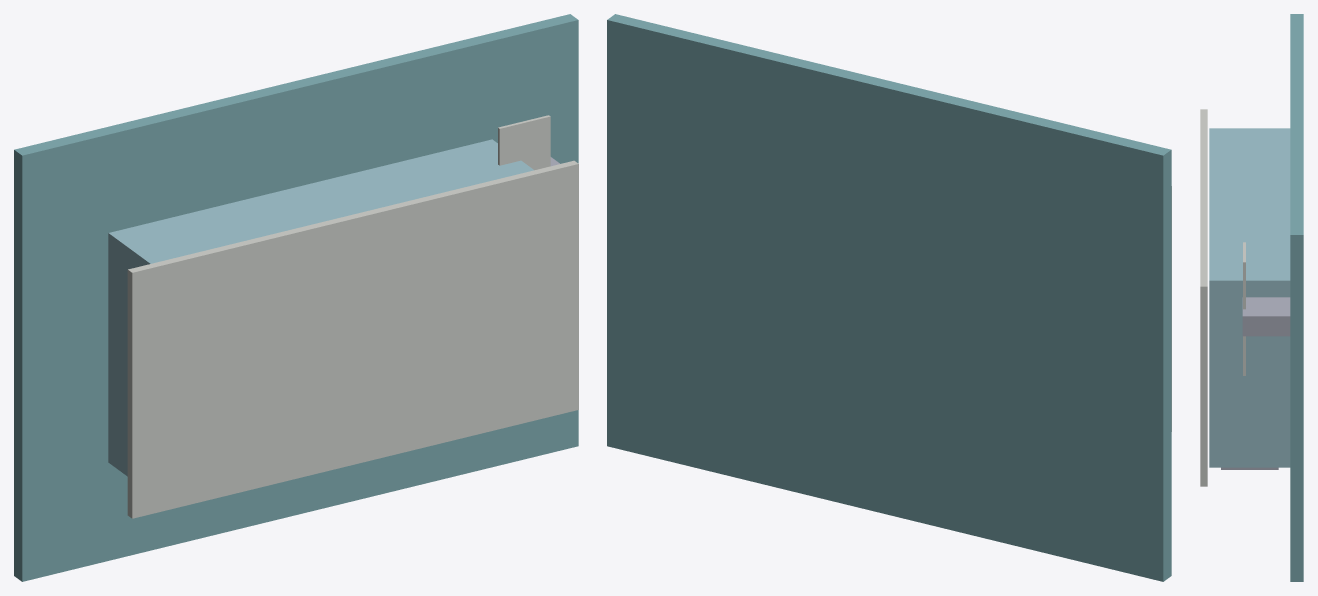
3 views of the same model, side by side, from view 1: azimuth 30°, elevation 25°; view 2: azimuth 150°, elevation 25°; view 3: azimuth 270°, elevation 25° (orthographic). The views are drawn at different scales.
Parts seen in each view (by area): view 1: section_02, section_00, section_01, section_12; view 2: section_00; view 3: section_01, section_00, section_02, section_11, section_12, section_10.
Part boxes in pixels (x1,y1,x2,y2): section_02: (127, 160, 578, 518); section_00: (14, 14, 578, 581); section_01: (108, 139, 533, 476); section_12: (498, 115, 550, 170); section_00: (607, 14, 1171, 581); section_01: (1209, 128, 1290, 467); section_00: (1290, 14, 1303, 581); section_02: (1200, 109, 1207, 486); section_11: (1242, 297, 1290, 336); section_12: (1243, 242, 1245, 375); section_10: (1221, 467, 1278, 469).
Bounding box in the file's own units: 7.1 × 5.2 × 1.4.
